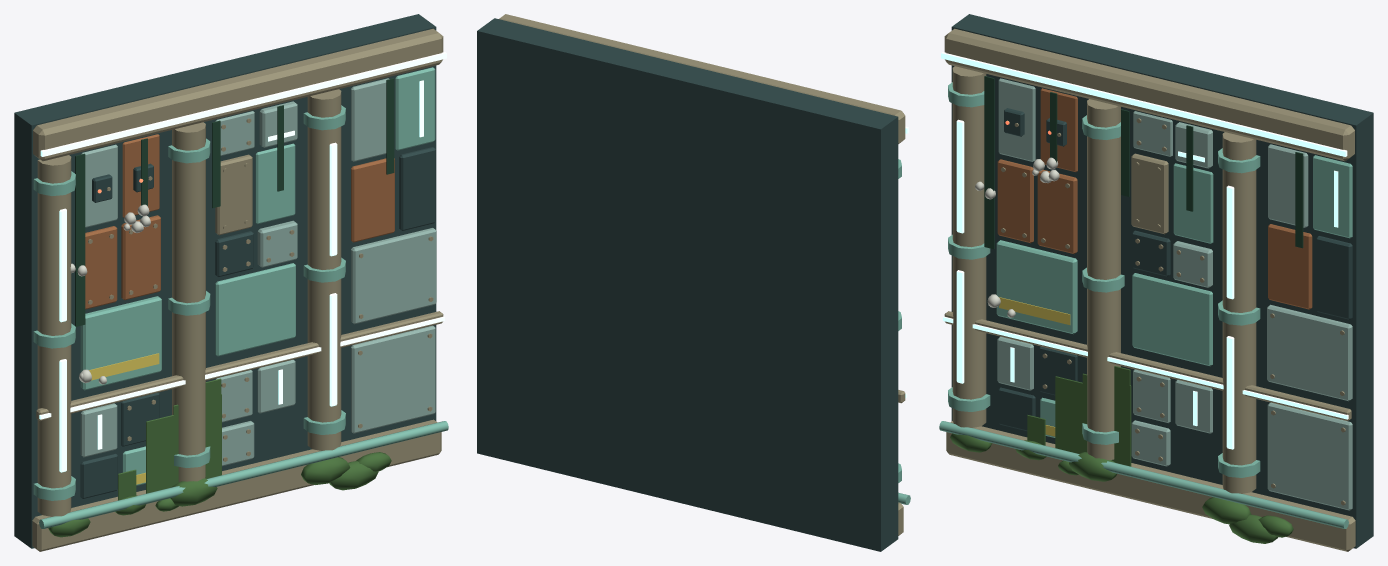
File: wall_dr_rib2.glb
The picture shows the model from 3 angles, left to right: view 1: azimuth 30°, elevation 25°; view 2: azimuth 150°, elevation 25°; view 3: azimuth 330°, elevation 25°; orthographic projection.
Visible parts, largest first — view 1: wall_dr_rib2; view 2: wall_dr_rib2; view 3: wall_dr_rib2.
Part boxes in pixels (bbox=[...]): wall_dr_rib2: bbox=[14, 14, 448, 551]; wall_dr_rib2: bbox=[477, 14, 910, 551]; wall_dr_rib2: bbox=[939, 14, 1373, 551].
Bounding box in the file's own units: 4 × 4.09 × 0.5554.
